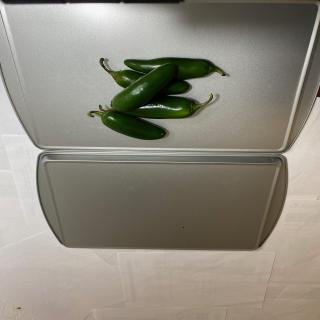Chilli: (87, 56, 226, 140)
Tomato: (110, 62, 178, 112), (88, 104, 166, 140), (124, 57, 226, 80), (123, 93, 213, 119), (99, 58, 145, 88)
